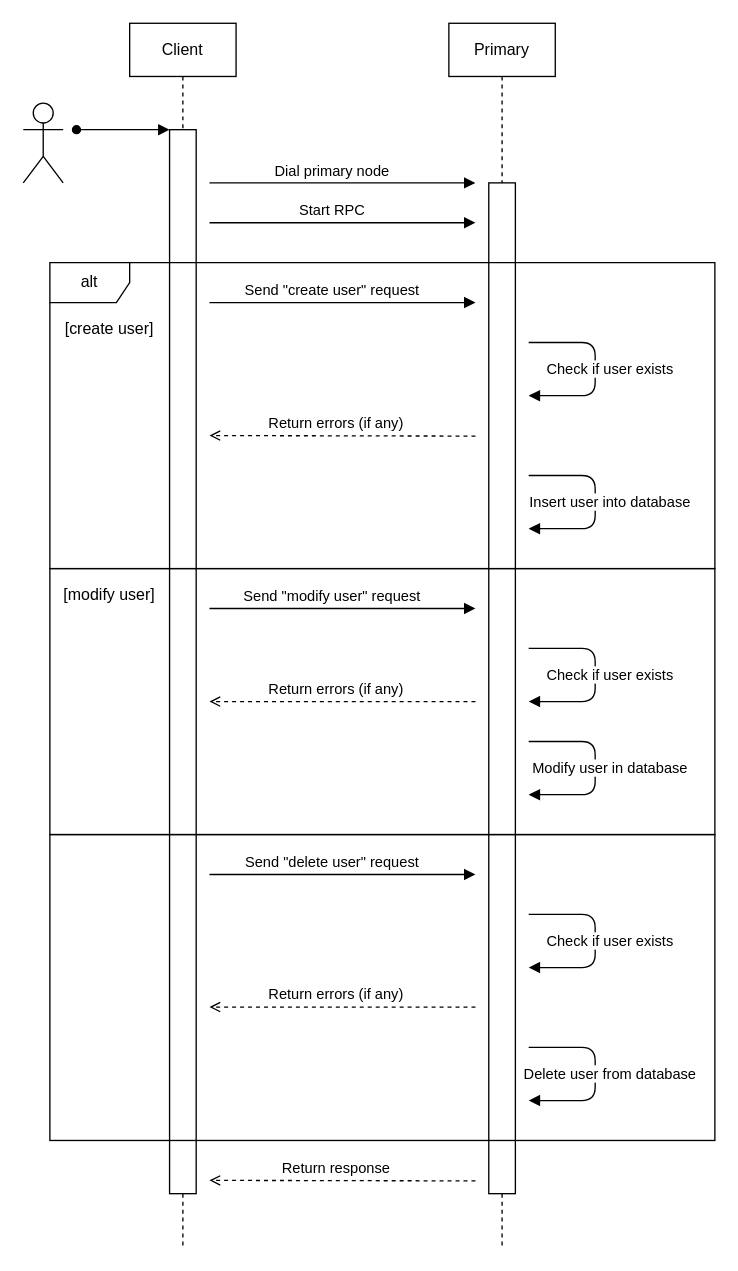
Some shapes in this 738 by 1271 pixel diagram are drawn without their labels. The shapes that lost their labels are listed below. From the top down, each one's centre as x and y in pixels, then its label:
At (42,142): "User".
At (382,986): "[delete user]".
